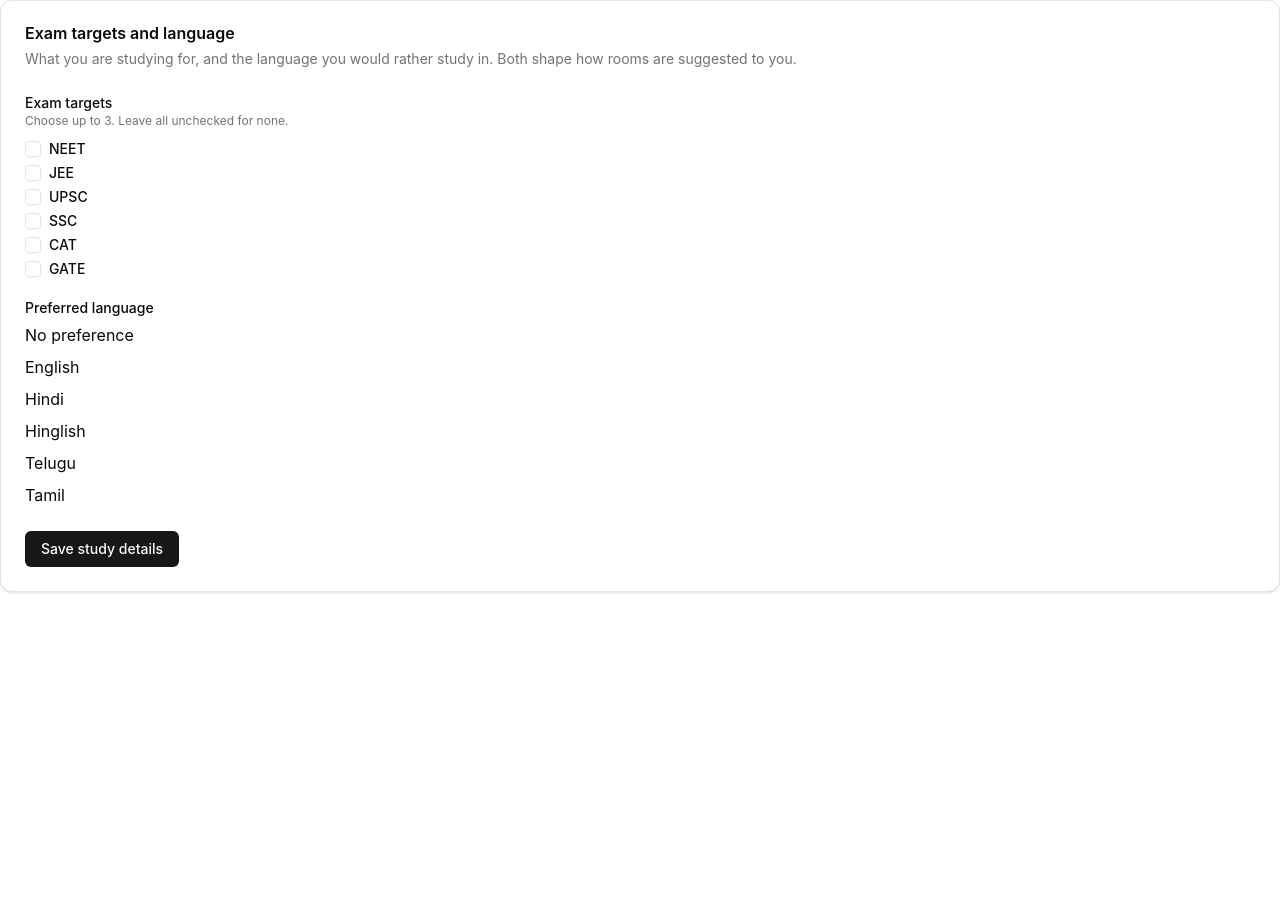
it: StudyPreferencesForm › refuses more than three targets without sending a request
What coordinates should you click on to do the following:
click the checkbox named "NEET" next to "NEET"
I would click on:
 (33, 149)
Its box is [25, 141, 41, 157].
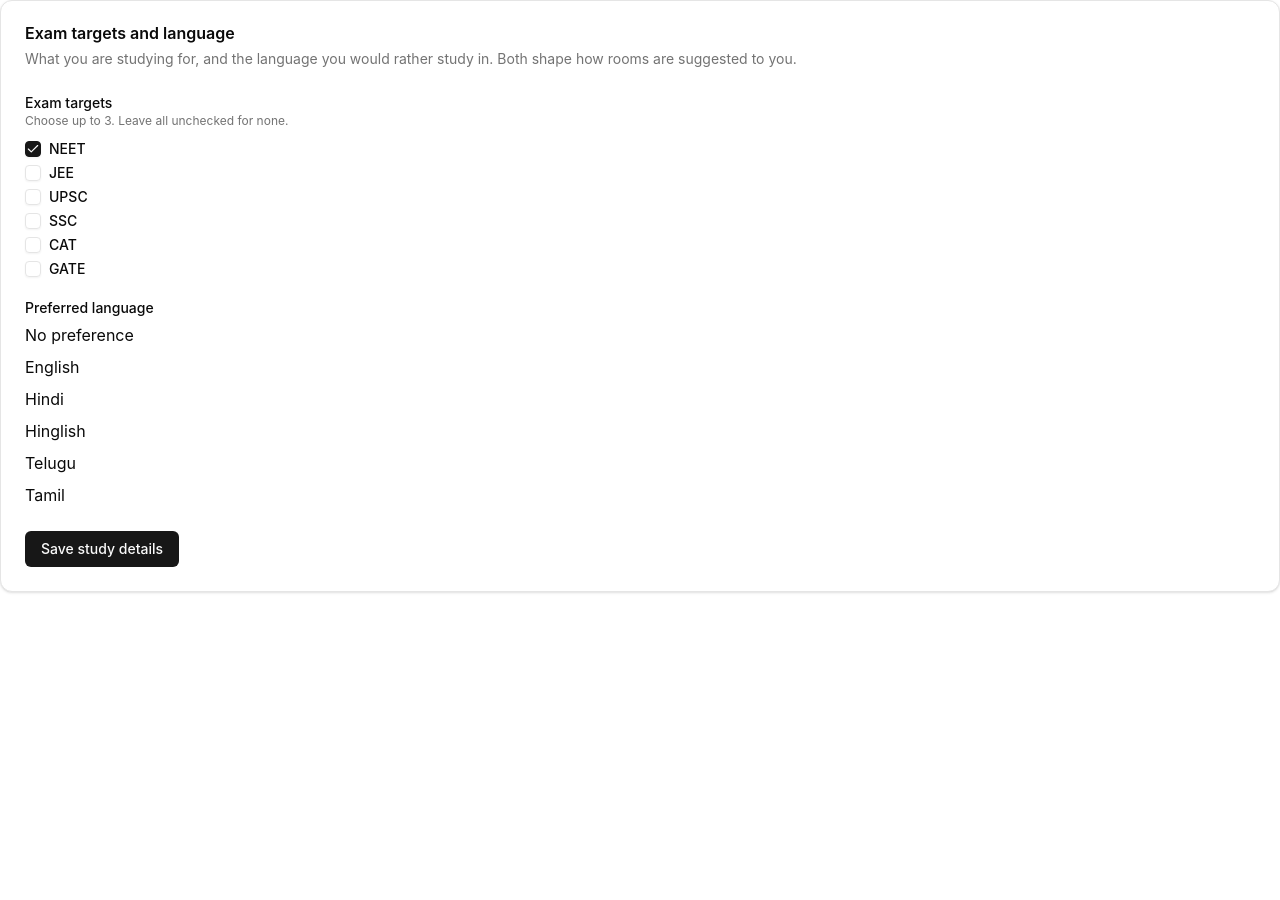
What coordinates should you click on to do the following:
click the checkbox named "JEE" next to "JEE"
I would click on:
 (33, 173)
Its box is [25, 165, 41, 181].
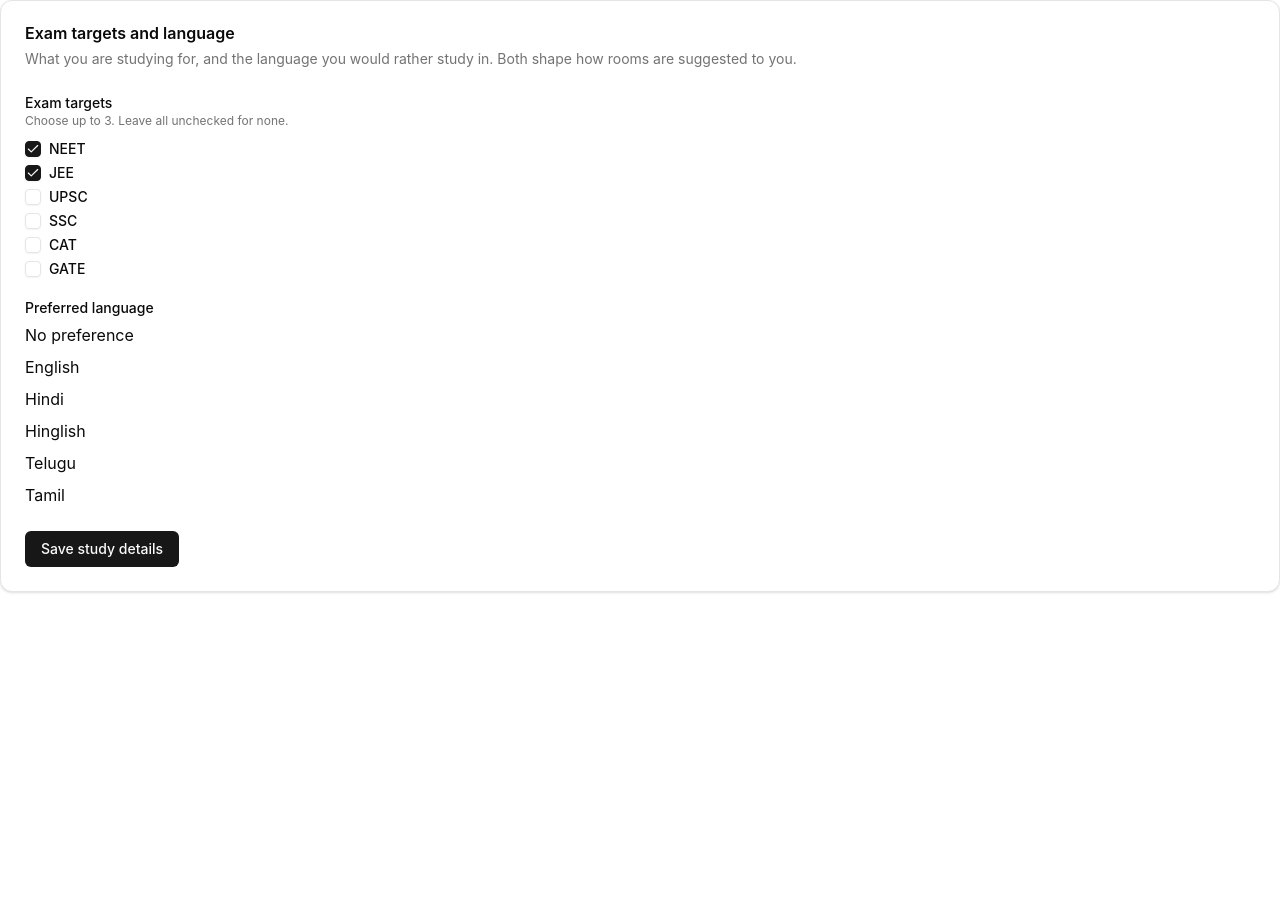
What coordinates should you click on to do the following:
click the checkbox named "UPSC" next to "UPSC"
I would click on:
 (33, 197)
Its box is [25, 189, 41, 205].
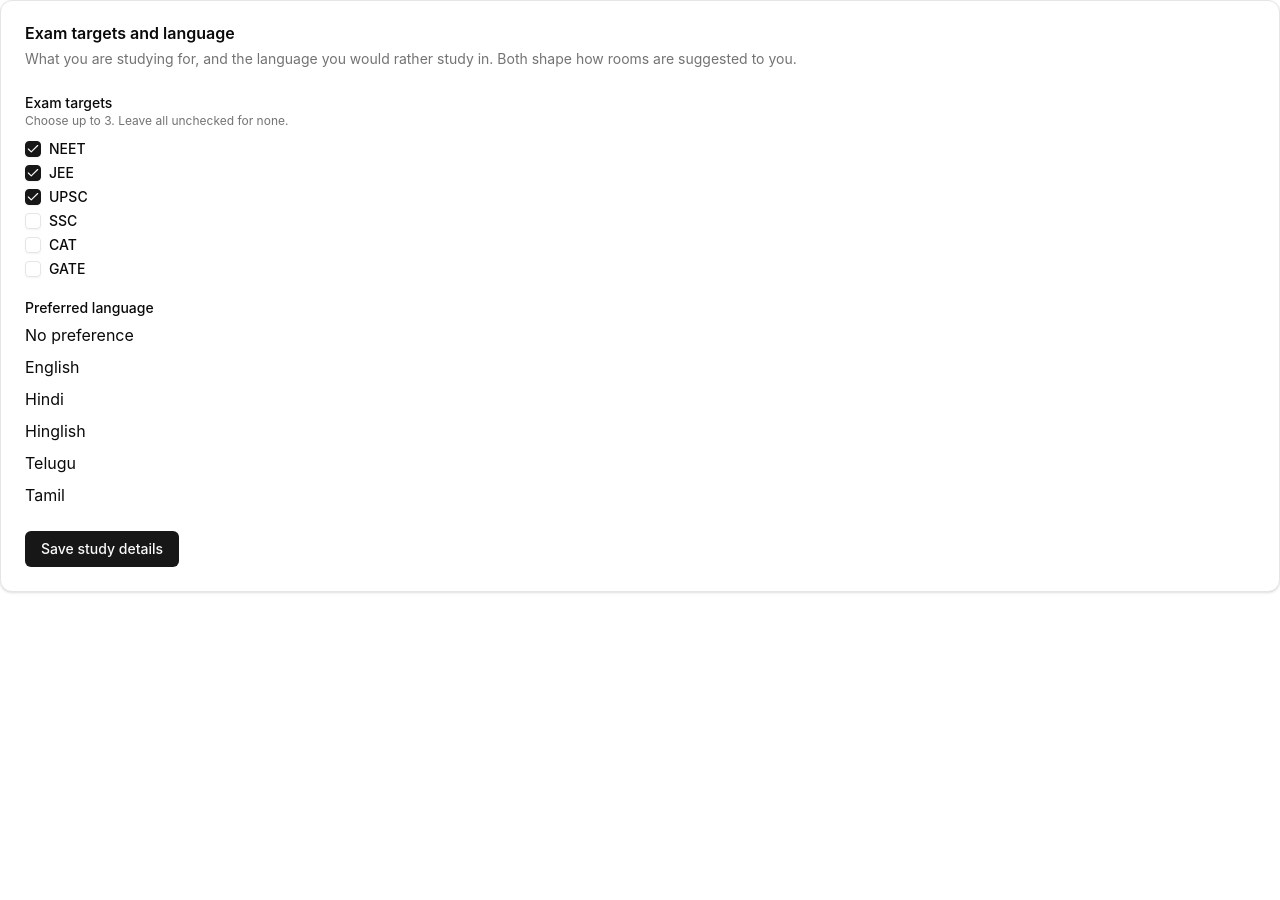
What coordinates should you click on to do the following:
click the checkbox named "SSC" next to "SSC"
I would click on:
 (33, 221)
Its box is [25, 213, 41, 229].
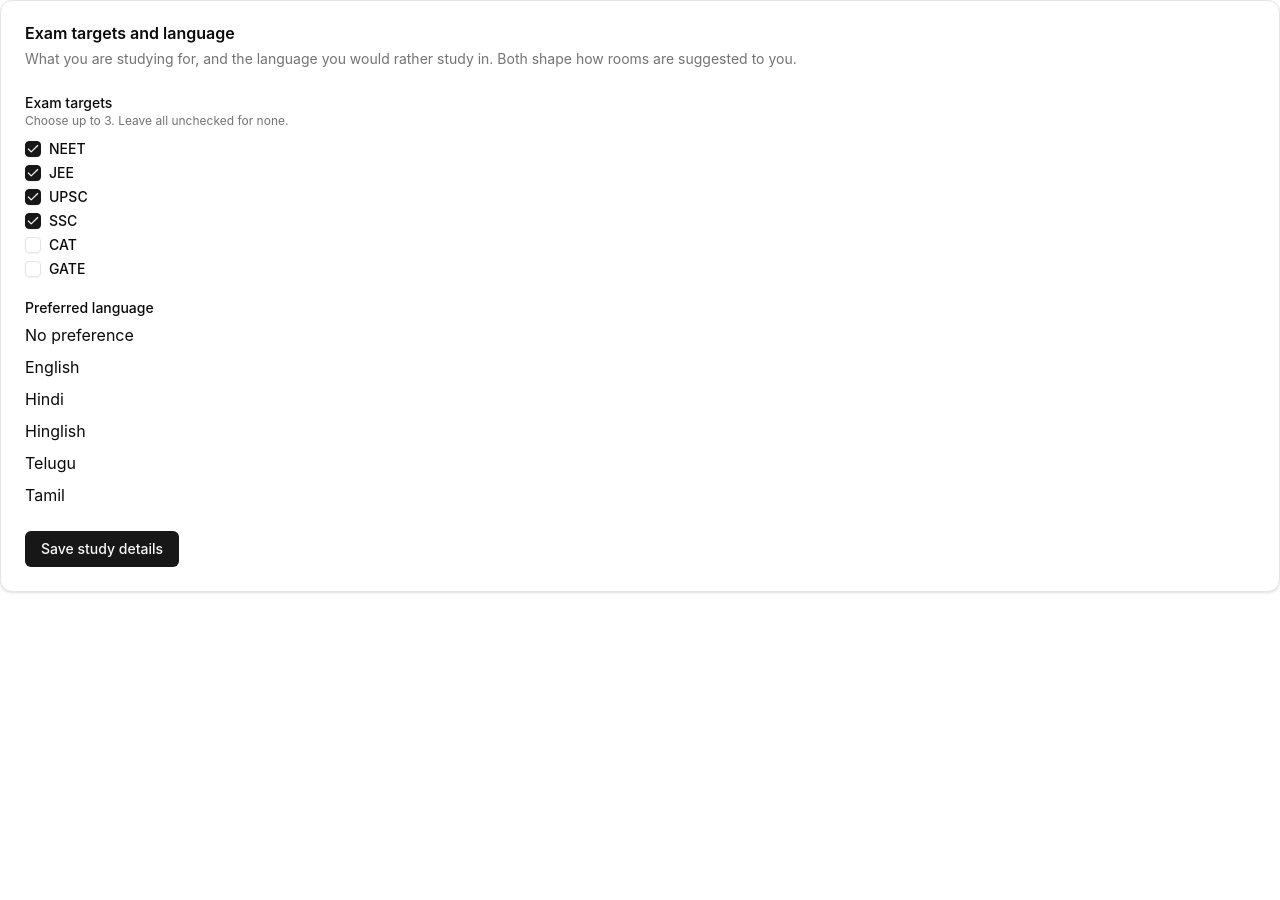
What coordinates should you click on to do the following:
click the button "Save study details"
I would click on:
 (102, 549)
Its box is [25, 531, 179, 567].
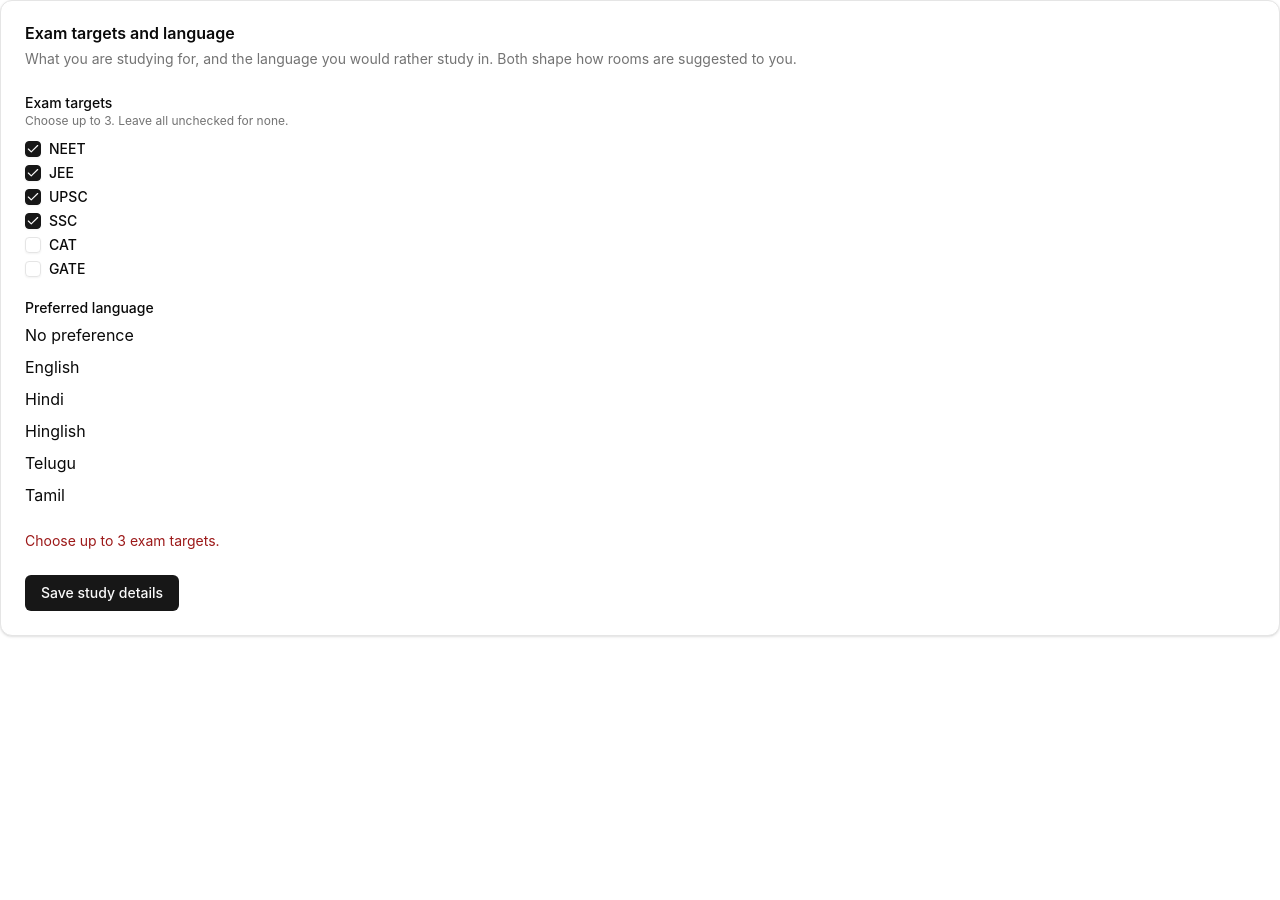
Expected: the message reads "Choose up to 3 exam targets.", [25, 532, 220, 549]
